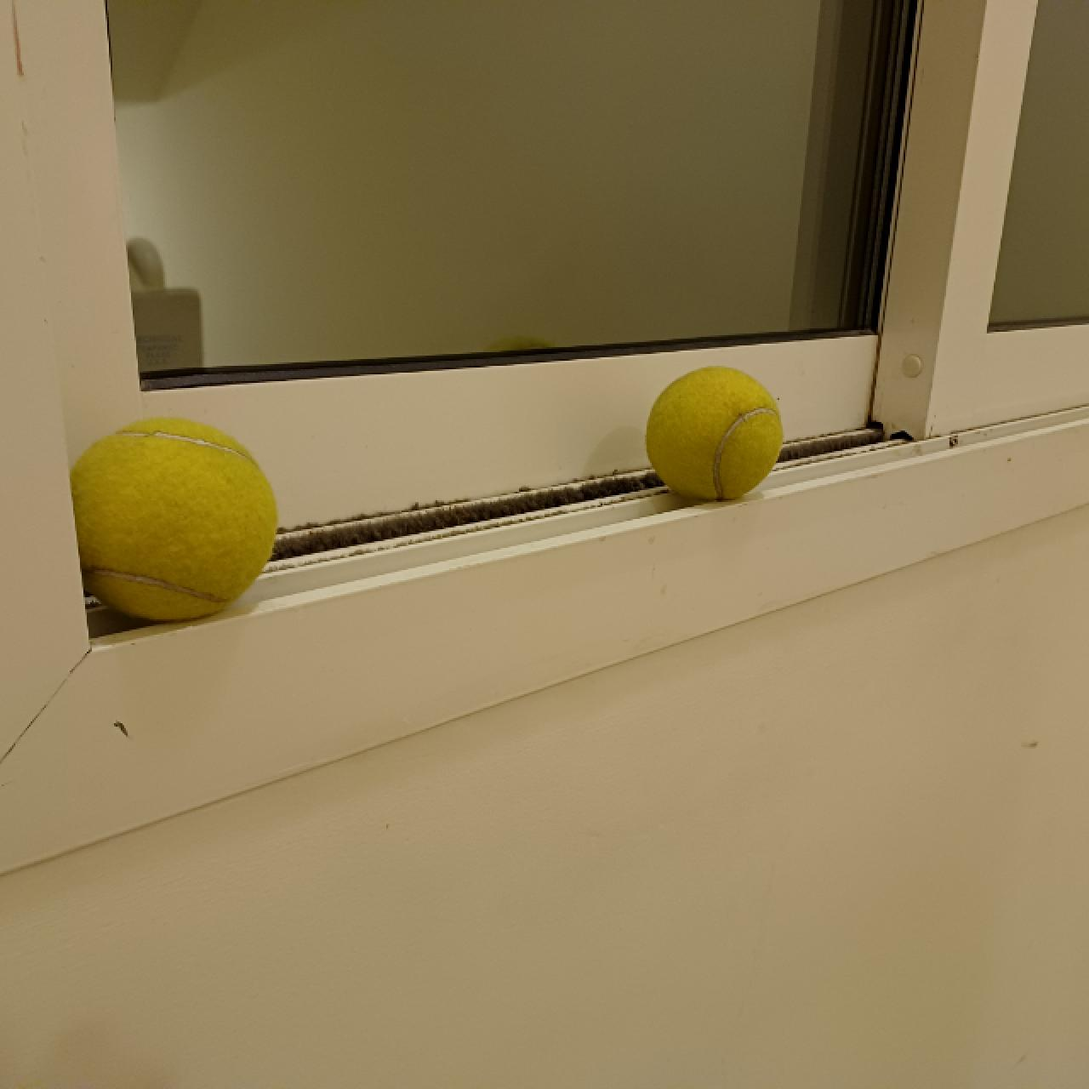tennis-ball: (65, 415, 279, 623), (647, 363, 784, 503)
